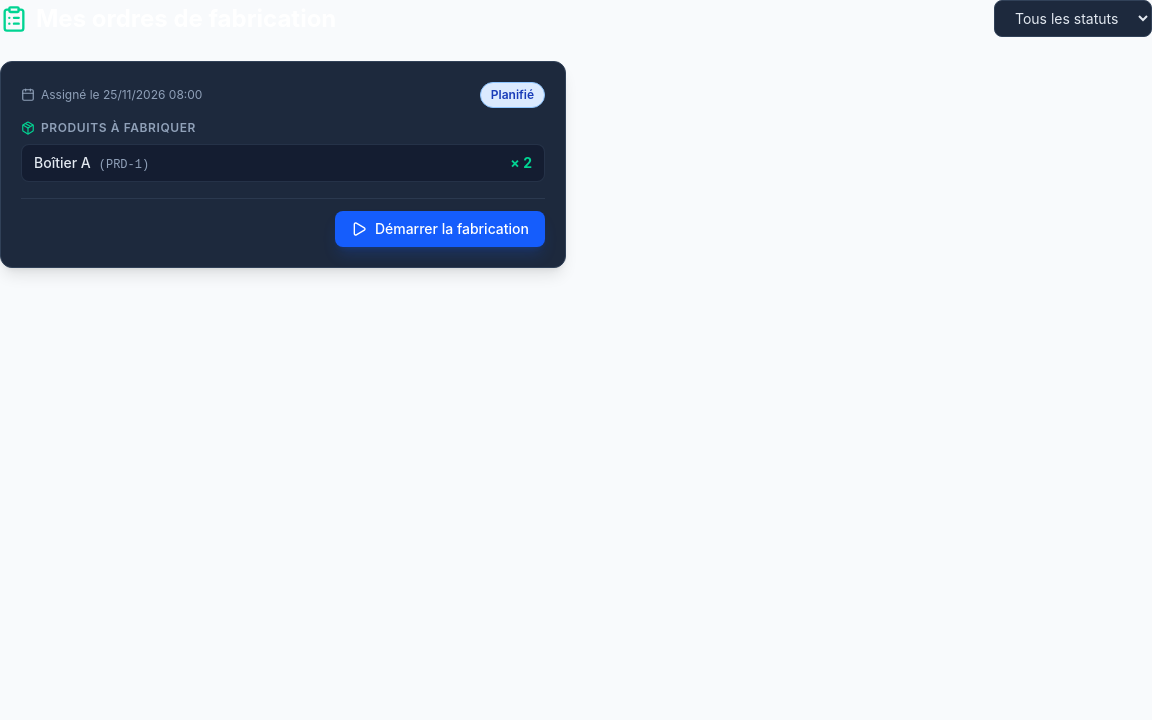
OperatorOrdersPage — Cycle de fabrication › démarre un ordre avec succès après confirmation
Later steps or results of the test are not shown.
Expected: the text "Boîtier A" is shown, [34, 154, 91, 171]
Click the button "Démarrer la fabrication" at (440, 229), box [335, 211, 545, 247]
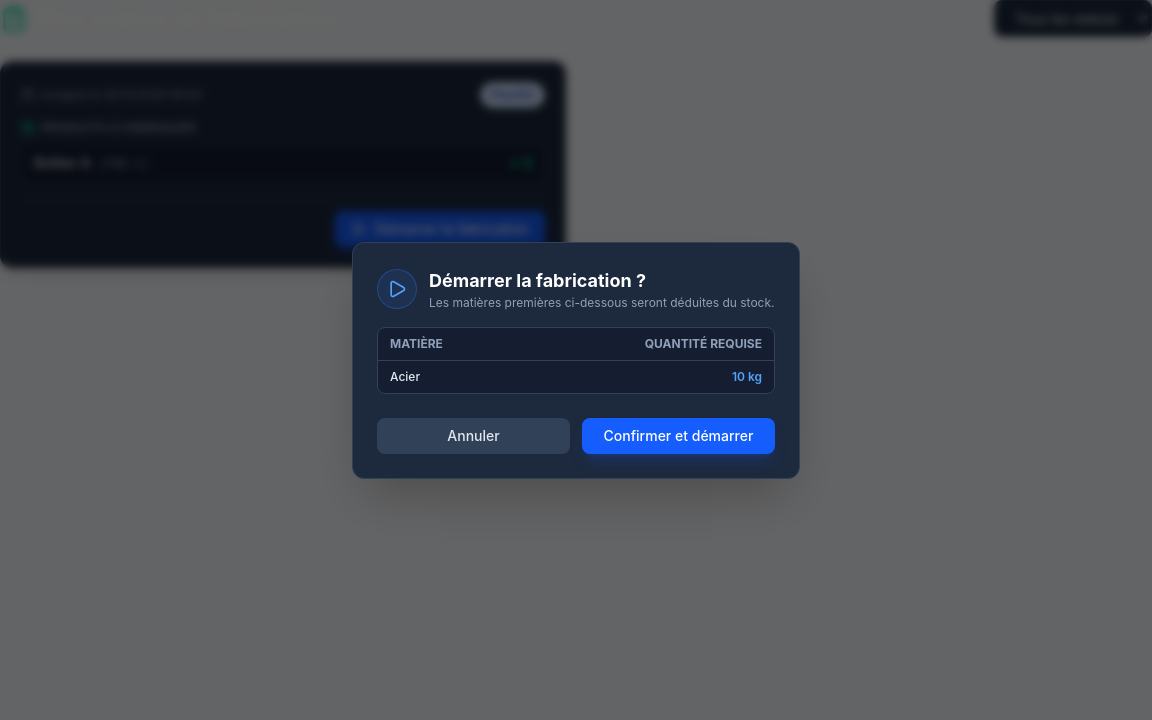
Expected: the text "10 kg" is shown, [518, 360, 774, 392]
